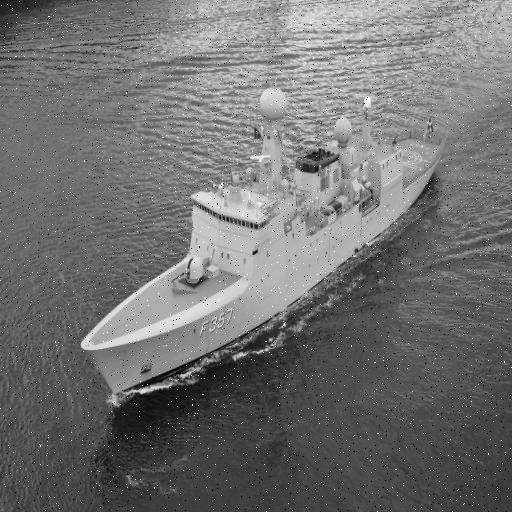Fragata: (77, 81, 469, 407)
